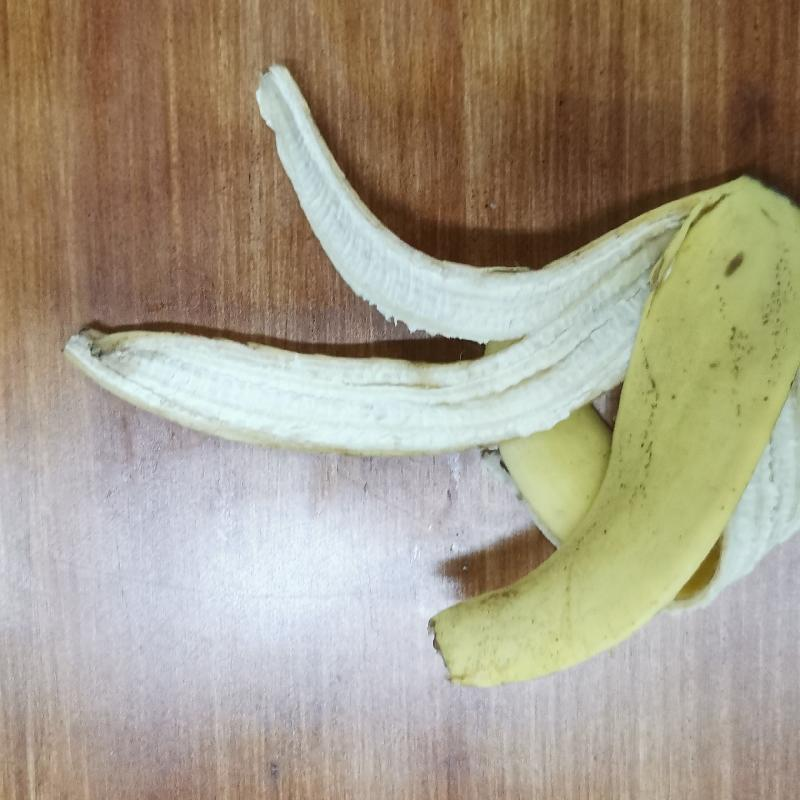bananas: (62, 63, 799, 688)
